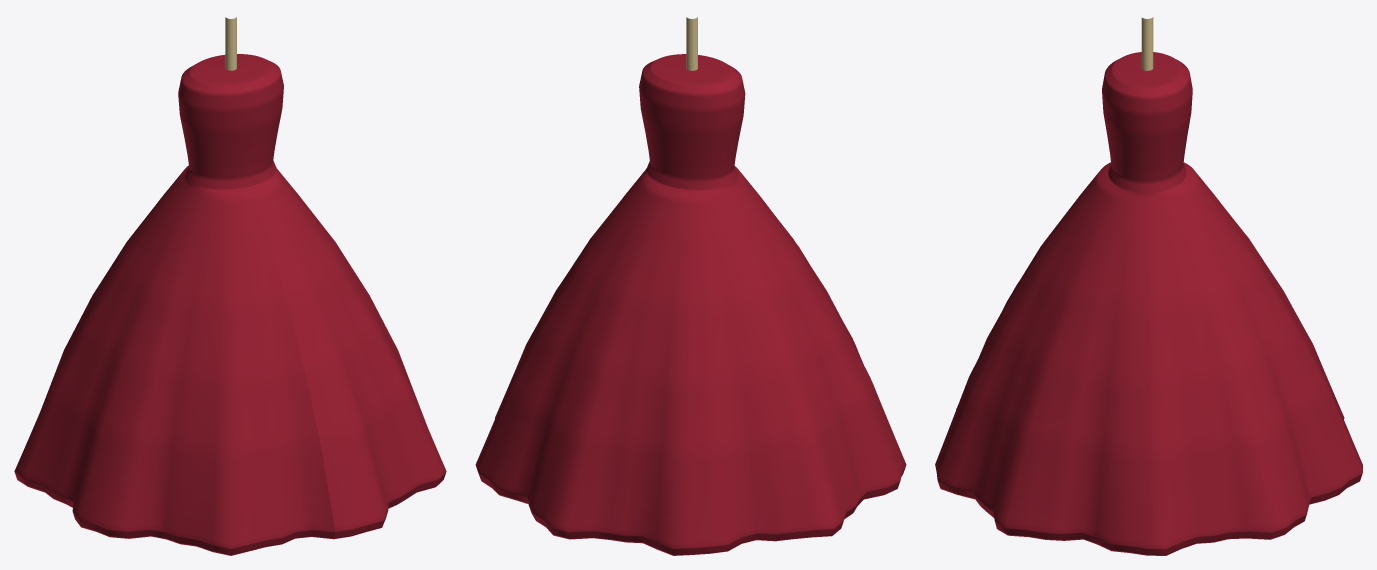
Rendered from placeholder-gown.gltf.
3 views of the same model, side by side, from view 1: azimuth 30°, elevation 25°; view 2: azimuth 150°, elevation 25°; view 3: azimuth 270°, elevation 25° (orthographic).
Visible parts, largest first — view 1: PlaceholderGown, Stand; view 2: PlaceholderGown, Stand; view 3: PlaceholderGown, Stand.
Boxes of the visible parts, box(x1,y1,x2,y2) form: PlaceholderGown: box(14, 54, 446, 555); Stand: box(225, 17, 236, 70); PlaceholderGown: box(475, 54, 906, 555); Stand: box(686, 17, 697, 70); PlaceholderGown: box(935, 52, 1362, 555); Stand: box(1141, 17, 1153, 70).
Bounding box in the file's own units: 1.3 × 1.52 × 1.31.
